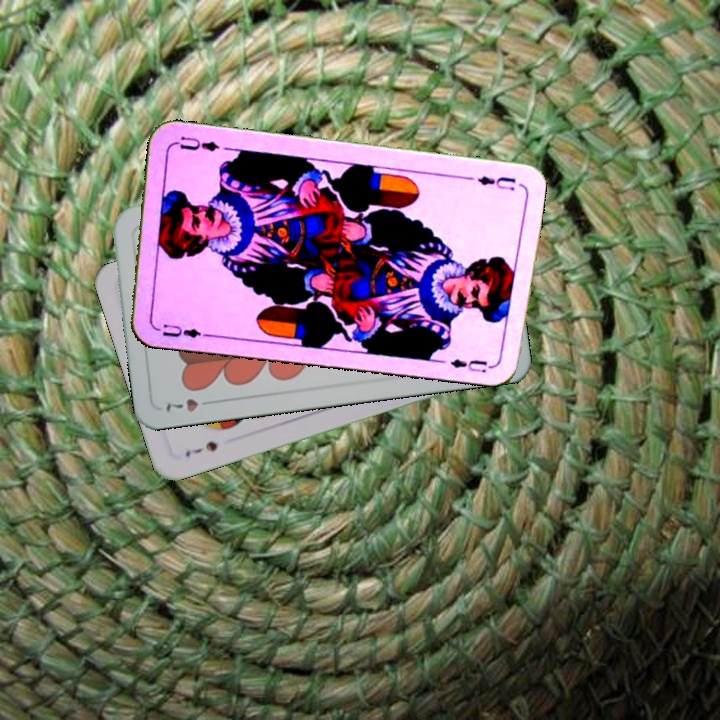EU: (158, 318, 210, 341), (473, 171, 518, 193)
H7: (161, 394, 218, 415)
S7: (181, 437, 221, 460)
